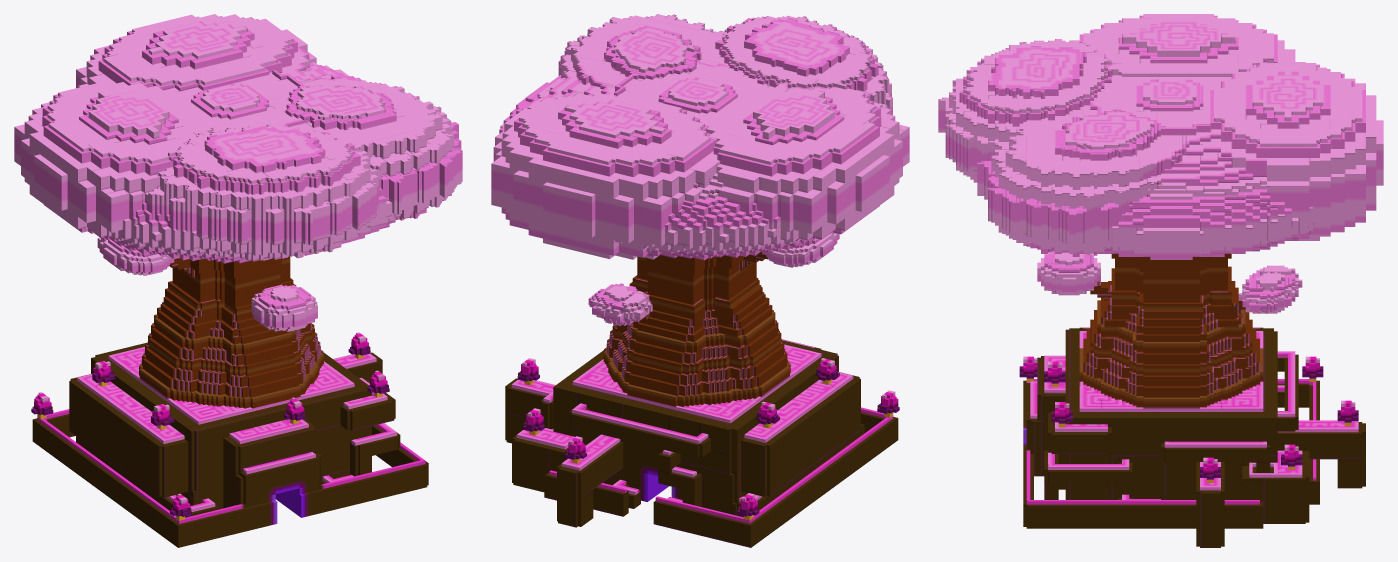
3 renders of one model, left to right at view 1: azimuth 30°, elevation 25°; view 2: azimuth 150°, elevation 25°; view 3: azimuth 270°, elevation 25°, orthographic.
Parts seen in each view (by area): view 1: Node-local; view 2: Node-local; view 3: Node-local.
Boxes of the visible parts, x1,y1,x2,y2 form: Node-local: (14,14,462,547); Node-local: (491,14,909,547); Node-local: (938,14,1383,547).
Bounding box in the file's own units: 119 × 120 × 126.
1 material, 1 textured.
